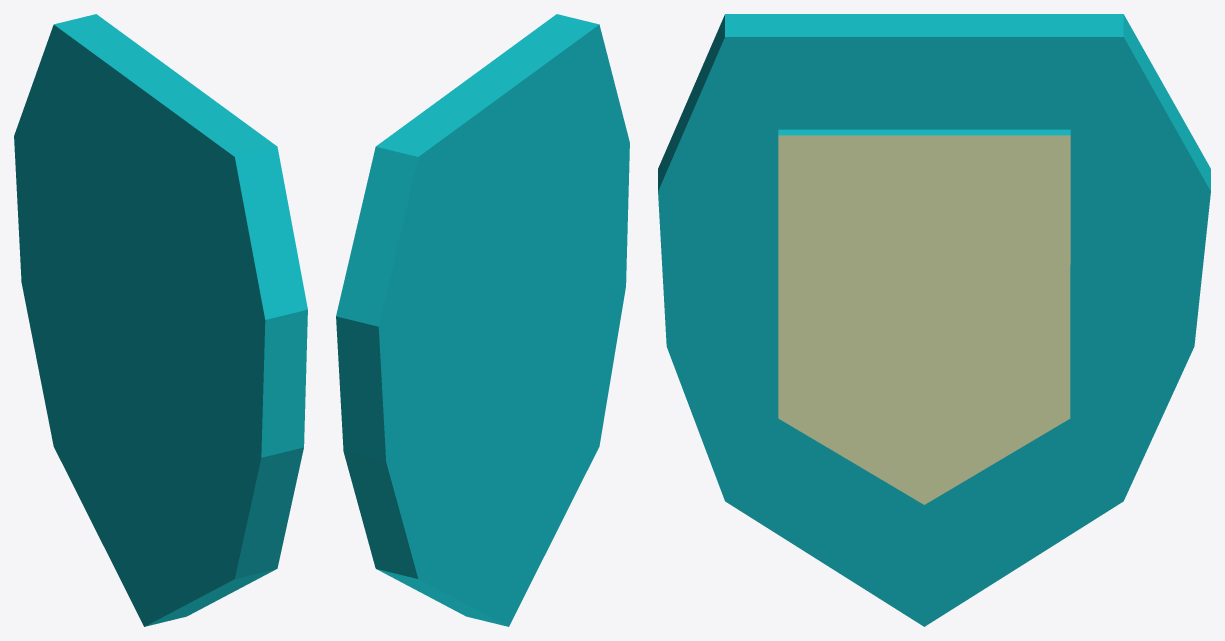
File: Graham Rush _ Shield.fbx
3 views of the same model, side by side, from view 1: azimuth 30°, elevation 25°; view 2: azimuth 150°, elevation 25°; view 3: azimuth 270°, elevation 25° (orthographic). The views are drawn at different scales.
Visible parts, largest first — view 1: Cube; view 2: Cube; view 3: Cube.
Boxes of the visible parts, x1,y1,x2,y2 form: Cube: (14, 14, 307, 626); Cube: (336, 14, 629, 626); Cube: (658, 14, 1210, 626).
Size of the model in its own units: 39.62 by 381 by 323.
